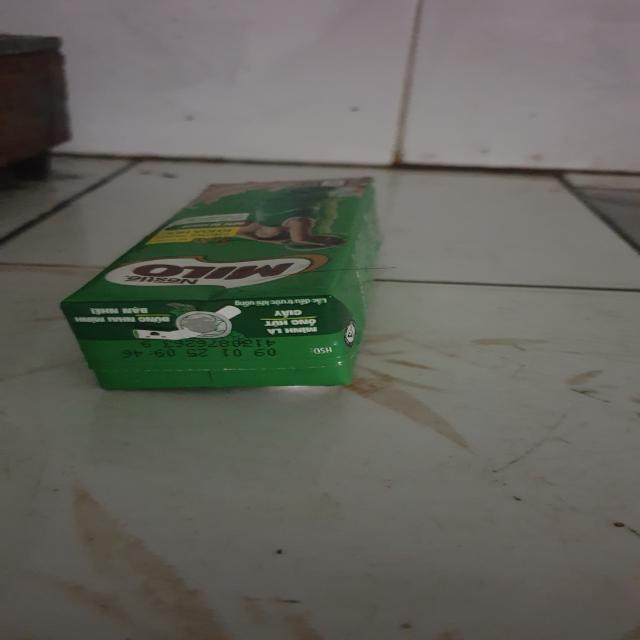Milo: (52, 177, 393, 395)
